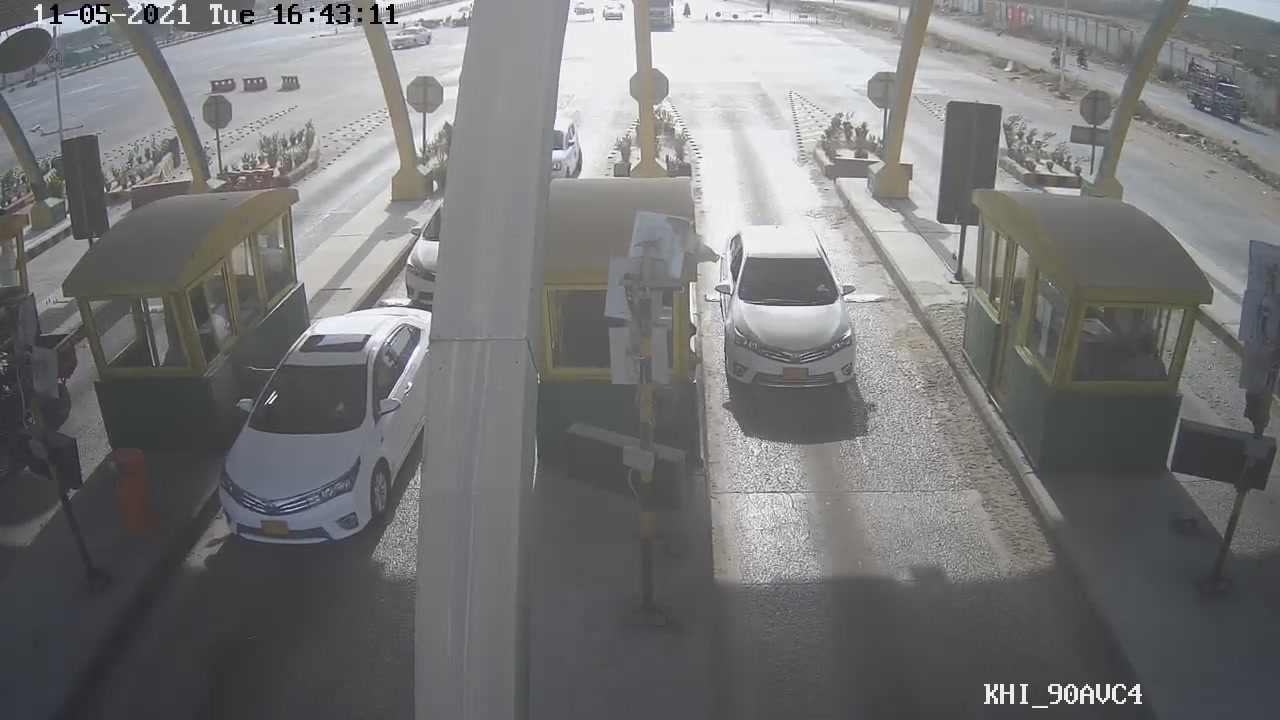F1: (705, 222, 876, 403)
